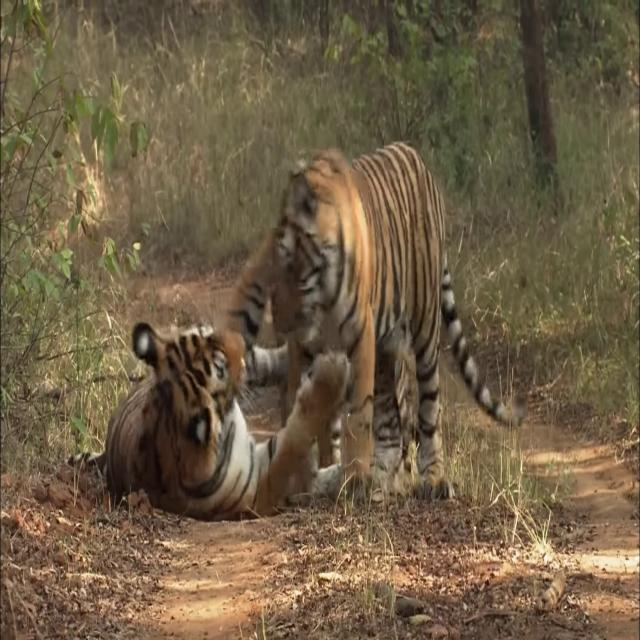tiger: (273, 135, 525, 505), (61, 319, 352, 517)
